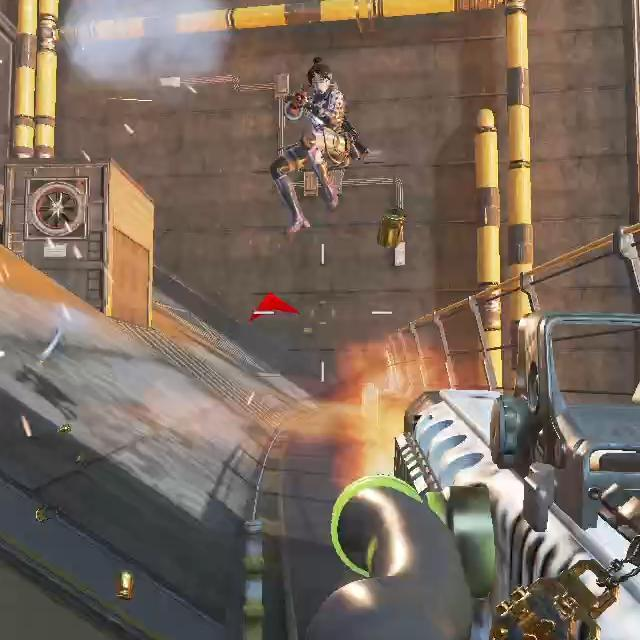avatar: (268, 53, 351, 240)
